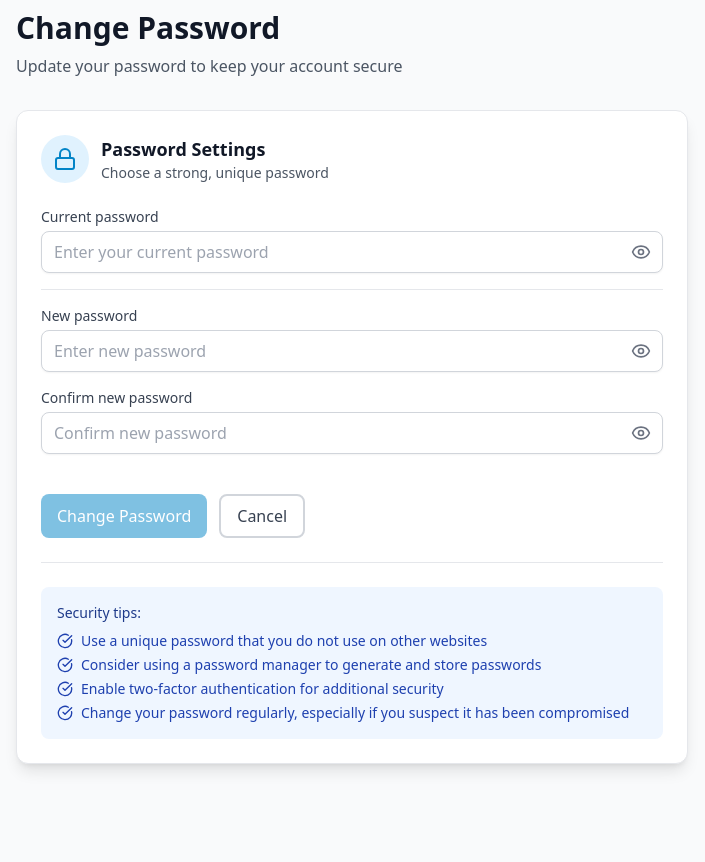
Test: ChangePasswordPage › should clear form on cancel
Type "OldPassword123!" into the password field labelled "Current password" at (352, 252), box [41,231,663,273]
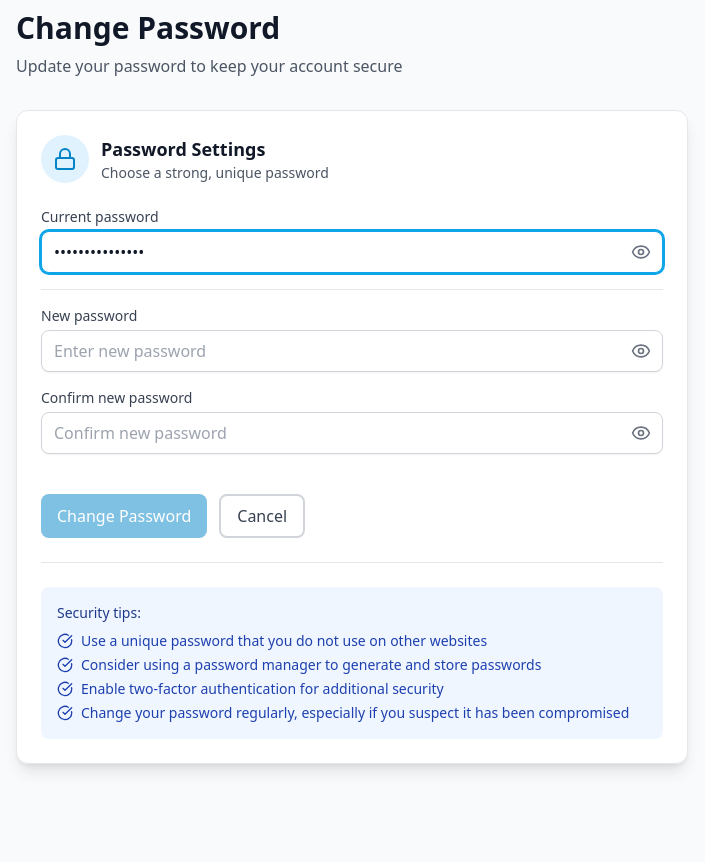
Type "NewPassword123!" into the password field labelled "New password" at (352, 351), box [41,330,663,372]
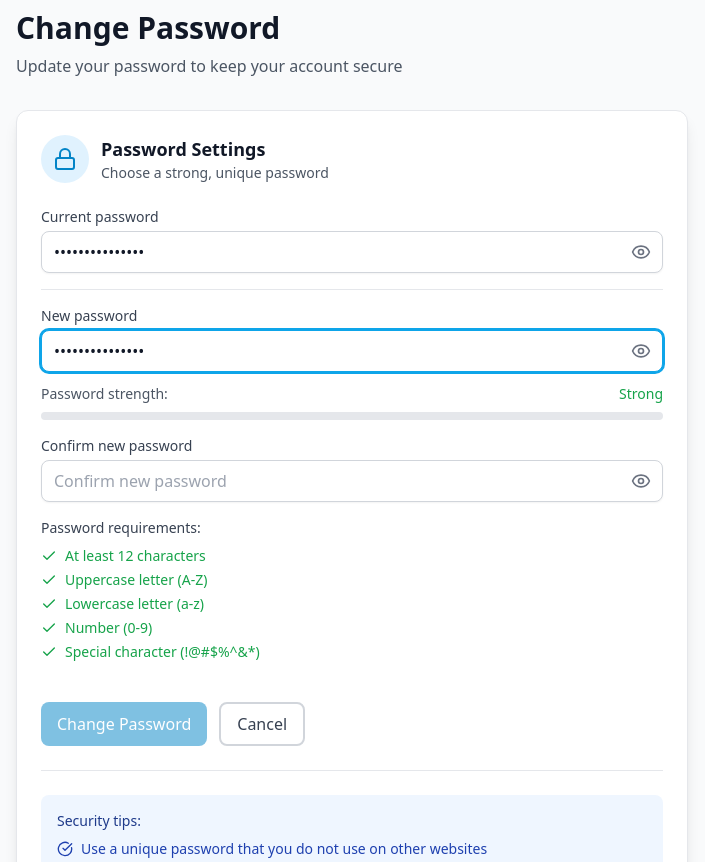
Click the button "Cancel" at (262, 724), box [219,702,305,746]
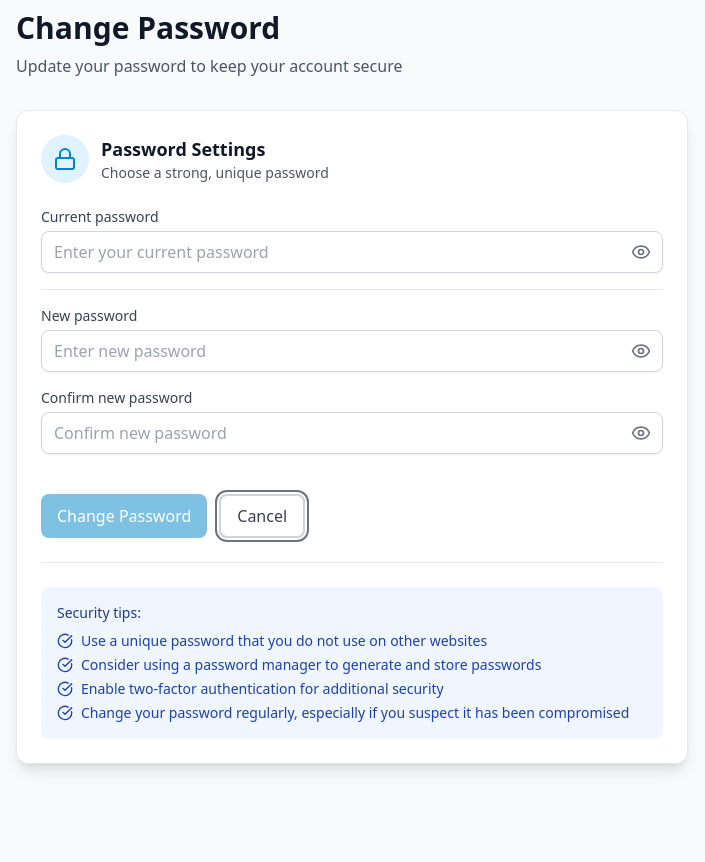
Check: the password field labelled "Current password" is empty, box [41,231,663,273]
Check: the password field labelled "New password" is empty, box [41,330,663,372]
